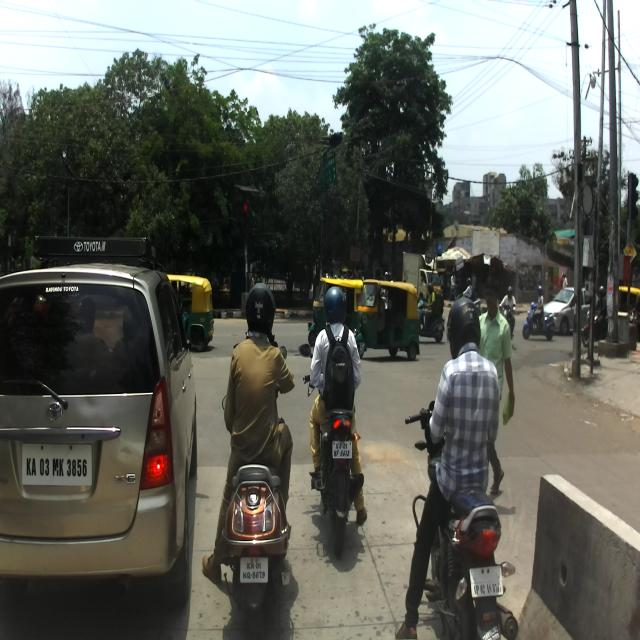motorcycle ahead at: (0, 269, 204, 586), (210, 455, 302, 627), (432, 493, 500, 640), (305, 406, 370, 556)
